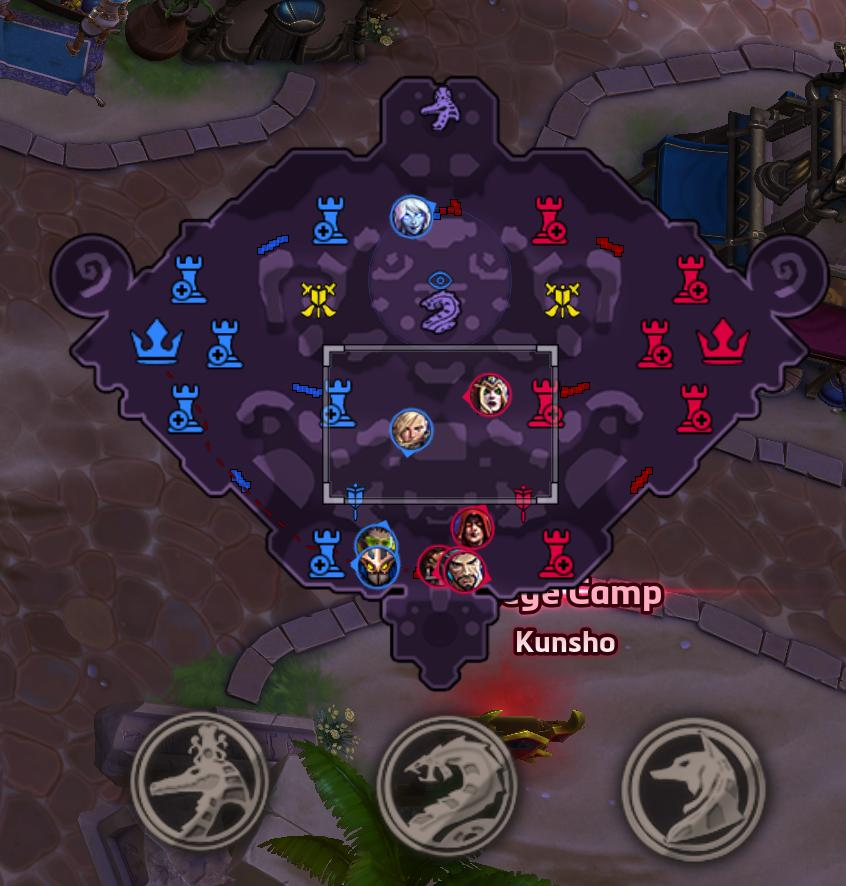blue nexus: (129, 317, 185, 364)
blue player: (353, 522, 400, 587), (389, 407, 433, 453), (389, 194, 433, 238)
blue tower: (306, 525, 345, 578), (205, 317, 244, 369), (166, 381, 205, 433), (311, 194, 350, 246), (170, 252, 208, 305), (320, 376, 357, 428)
red nexus: (695, 317, 750, 365)
red player: (441, 548, 486, 594), (466, 373, 511, 418), (452, 505, 494, 550), (414, 545, 457, 587)
red tower: (527, 376, 566, 429), (671, 253, 709, 306), (675, 382, 713, 434), (636, 316, 673, 369), (530, 194, 567, 246)
